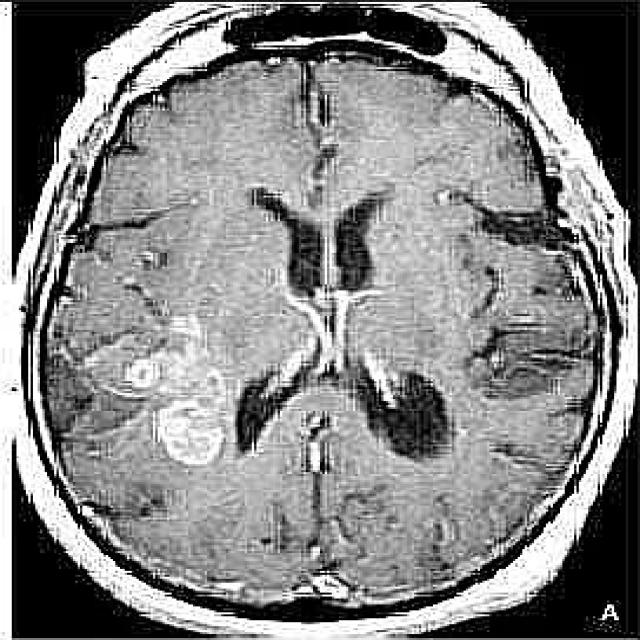Tumor-Cell: (104, 321, 242, 465)
